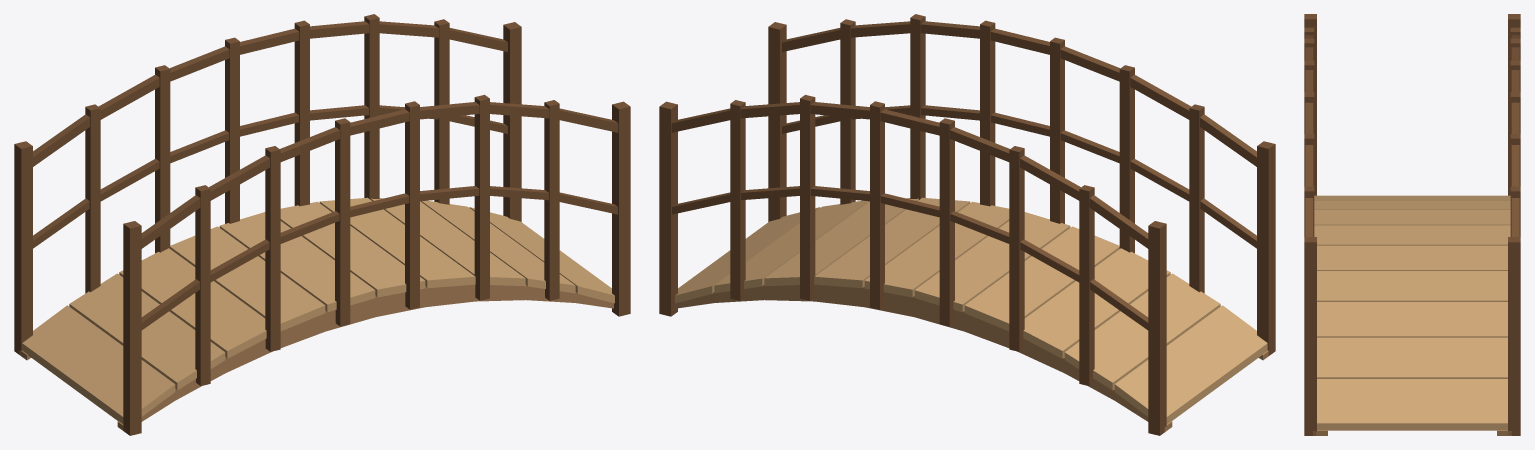
File: sakura_garden_bridge_3m.glb
3 views of the same model, side by side, from view 1: azimuth 30°, elevation 25°; view 2: azimuth 150°, elevation 25°; view 3: azimuth 270°, elevation 25° (orthographic). The views are drawn at different scales.
Visible parts, largest first — view 1: sakura_garden_bridge_3m; view 2: sakura_garden_bridge_3m; view 3: sakura_garden_bridge_3m.
Boxes of the visible parts, x1,y1,x2,y2 form: sakura_garden_bridge_3m: (14,14,630,435); sakura_garden_bridge_3m: (659,14,1275,435); sakura_garden_bridge_3m: (1304,14,1520,435).
Bounding box in the file's own units: 3 × 1.49 × 1.2.
Materials: 1 (1 with a texture image).
